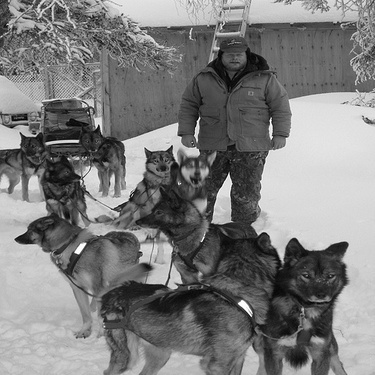dog: (91, 225, 285, 370), (4, 208, 149, 343), (112, 188, 261, 310), (250, 229, 352, 373), (194, 222, 293, 336), (110, 139, 184, 225), (65, 124, 135, 201), (171, 139, 224, 240), (33, 158, 99, 233), (1, 133, 58, 203)
